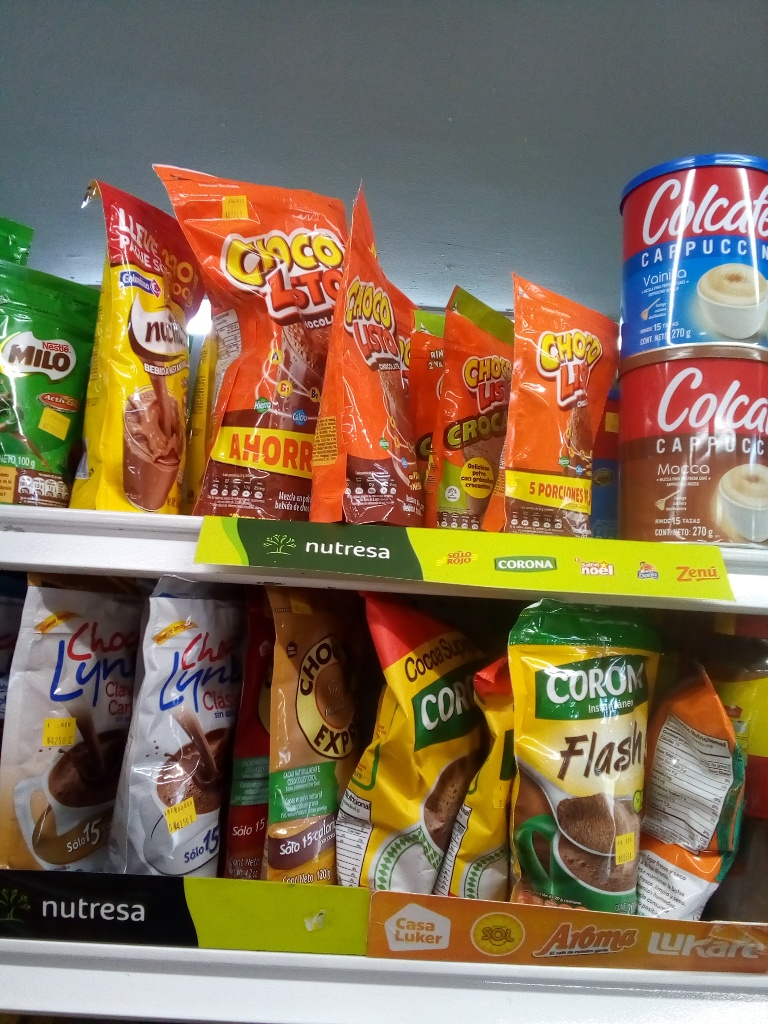COL0170102DYP10000: (432, 276, 511, 529)
COL0170103DYP20000: (316, 200, 422, 522)
COL0170103DYP36000: (166, 190, 338, 521)
COL0170203DYP10000: (1, 255, 95, 508)
